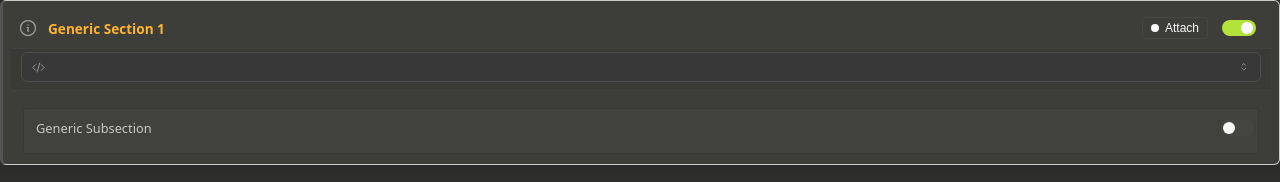
Scenario: ConfigSection › handles verification info button click and popover
Click the button titled "Show verification details" at {"x": 28, "y": 28}, box top-left (16, 16), bottom-right (40, 40)
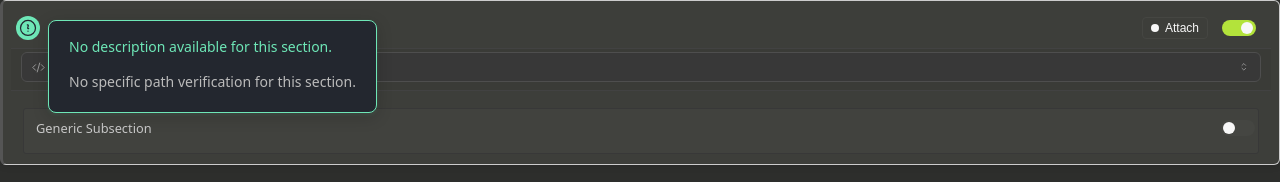
Result: the element with class "config-section-verification-popover" is shown at top-left (48, 20), bottom-right (377, 113)
